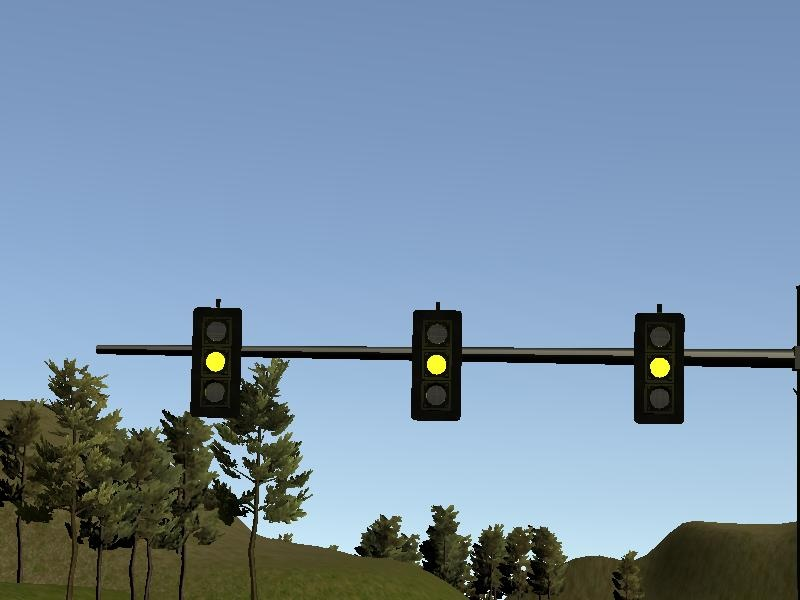YELLOW: (627, 310, 689, 427), (406, 306, 468, 423), (186, 304, 248, 421)
